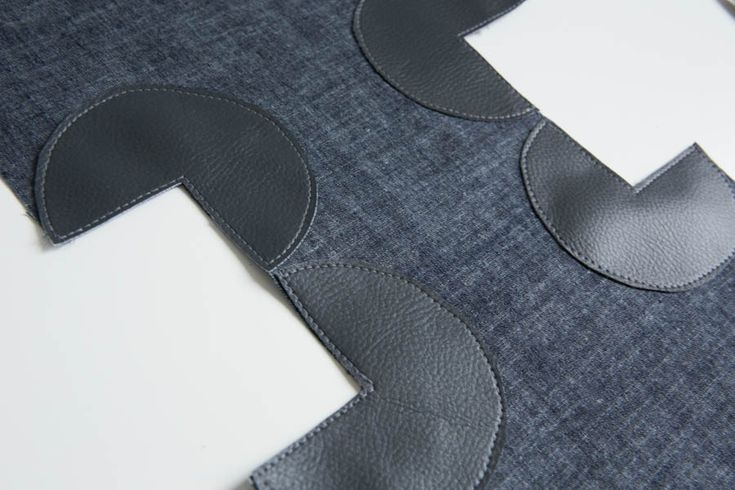cuero: (31, 1, 735, 490)
